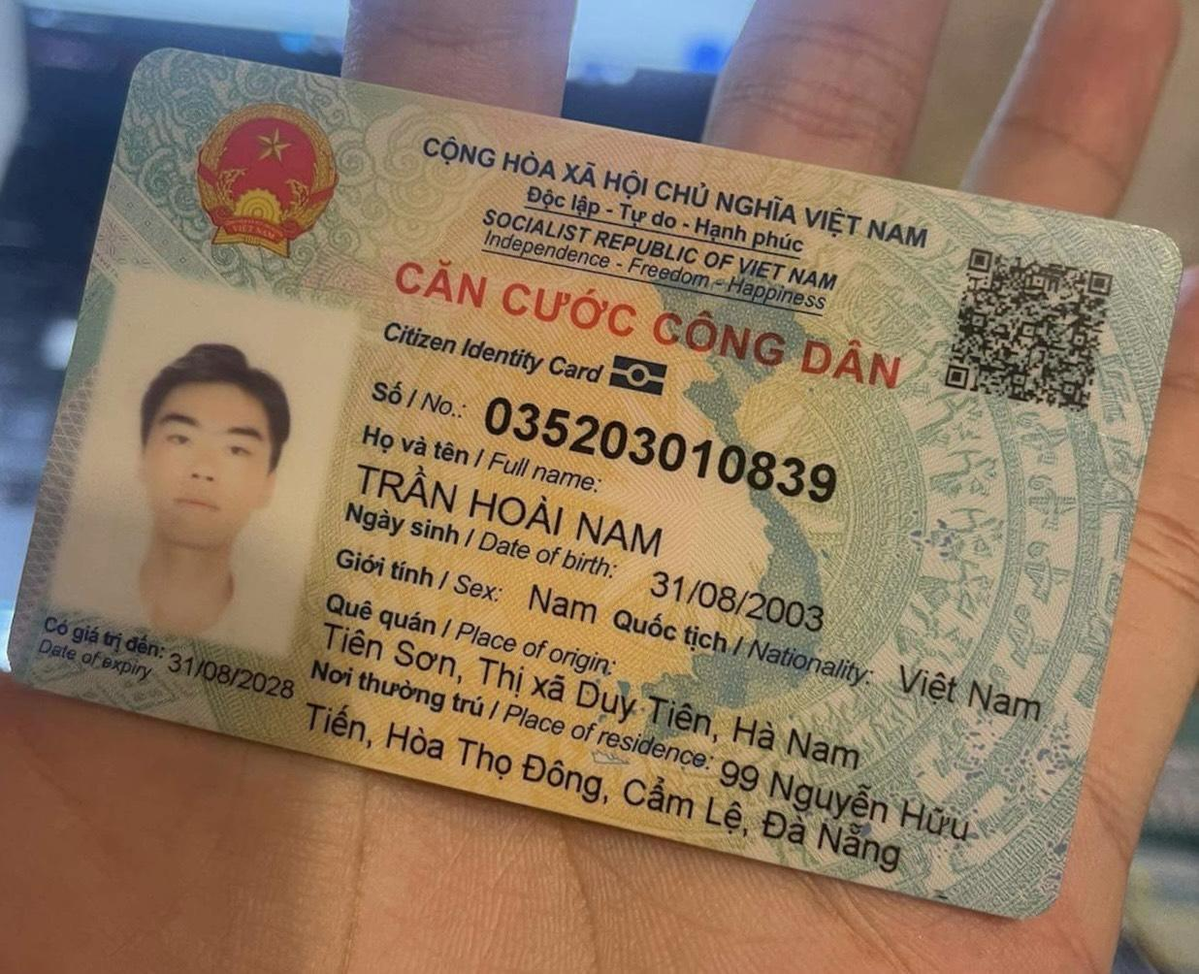ID: (464, 379, 857, 517)
birth: (641, 557, 839, 638)
name: (336, 445, 685, 568)
place: (311, 610, 885, 782)
residence: (297, 687, 930, 888), (708, 749, 995, 852)
